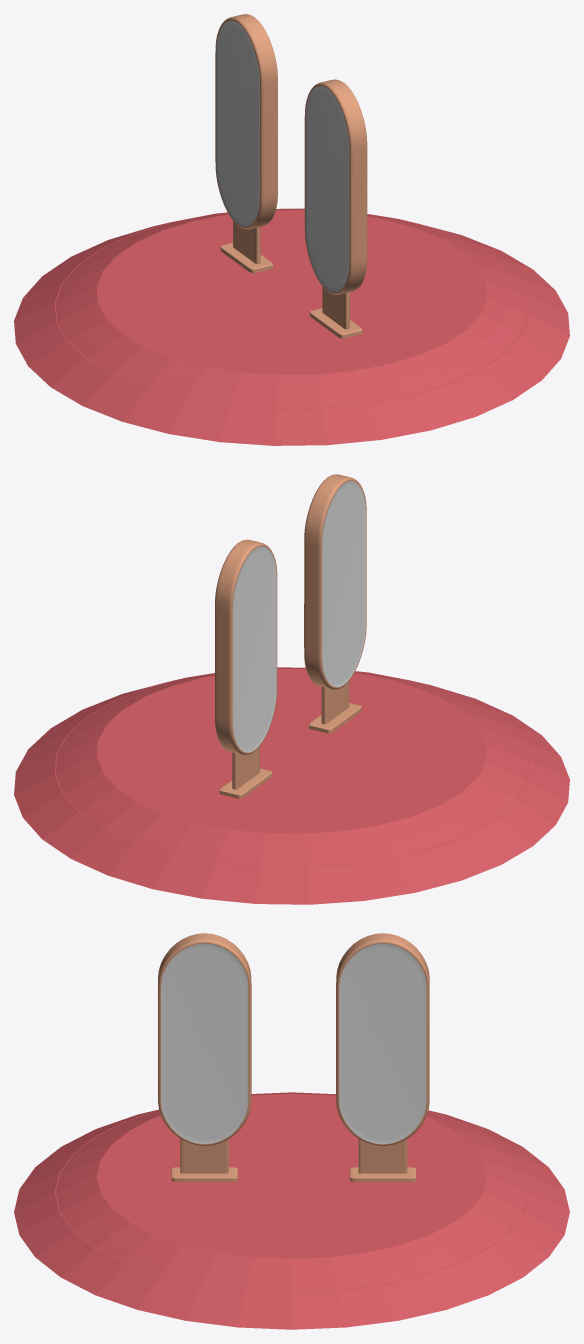
File: Mirror & Centre Platfrom v1_.fbx
3 views of the same model, one above another, from view 1: azimuth 30°, elevation 25°; view 2: azimuth 150°, elevation 25°; view 3: azimuth 270°, elevation 25° (orthographic).
Visible parts, largest first — view 1: Cylinder.006, Cube.022, Cube.023; view 2: Cylinder.006, Cube.022, Cube.023; view 3: Cylinder.006, Cube.023, Cube.022.
Part boxes in pixels (box(x1,y1,x2,y2)): Cylinder.006: box(14, 208, 569, 445); Cube.022: box(304, 79, 367, 338); Cube.023: box(215, 14, 277, 273); Cylinder.006: box(14, 667, 569, 904); Cube.022: box(304, 474, 366, 733); Cube.023: box(215, 539, 277, 798); Cylinder.006: box(14, 1092, 569, 1329); Cube.023: box(336, 933, 429, 1181); Cube.022: box(158, 933, 251, 1181).
Size of the model in its own units: 767 by 420 by 767.
